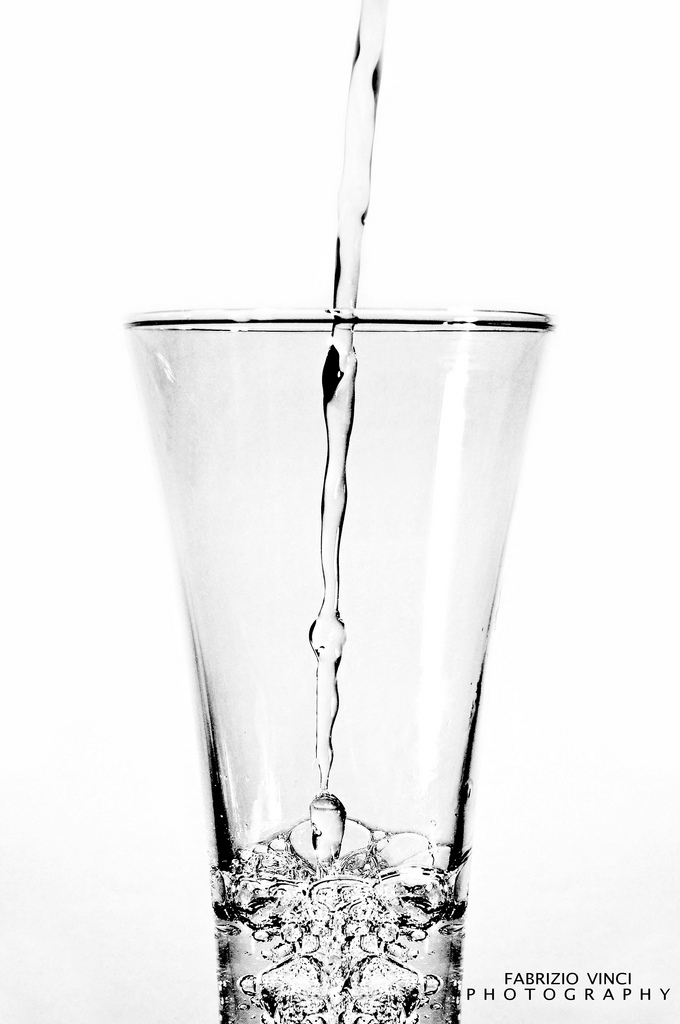glass of water: (100, 271, 568, 1024)
